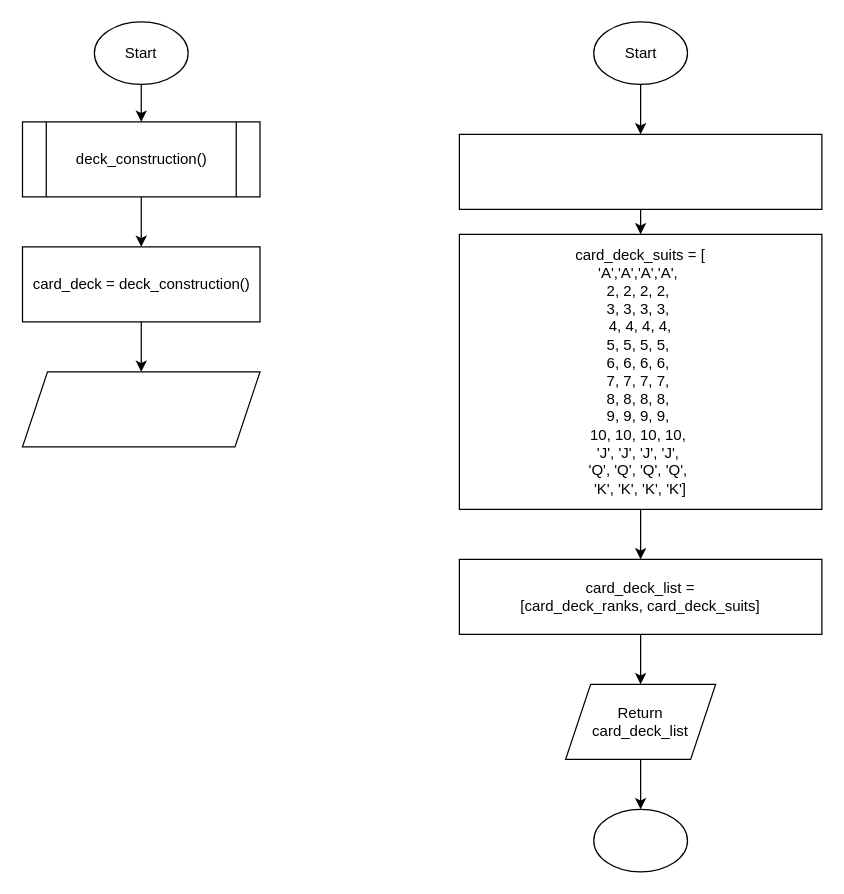
Image size: 844x894. Some labels were removed from this diagram. Each missing label, with the box of its shape:
card_deck_ranks = ['\u2663', '\u2665', '\u2666', '\u2660']: (458, 133, 822, 209)
End: (592, 808, 688, 872)
print card_deck: (21, 371, 260, 447)
